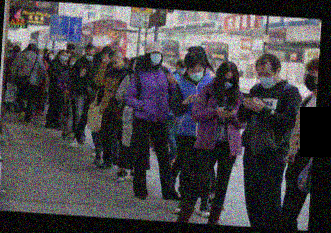with_mask: (256, 70, 277, 89), (304, 67, 318, 92), (188, 66, 204, 81), (221, 75, 236, 90), (150, 51, 163, 66), (85, 52, 95, 61), (59, 52, 67, 62), (68, 58, 76, 67), (47, 52, 55, 61), (36, 52, 45, 59)
without_mask: (109, 58, 122, 69)
